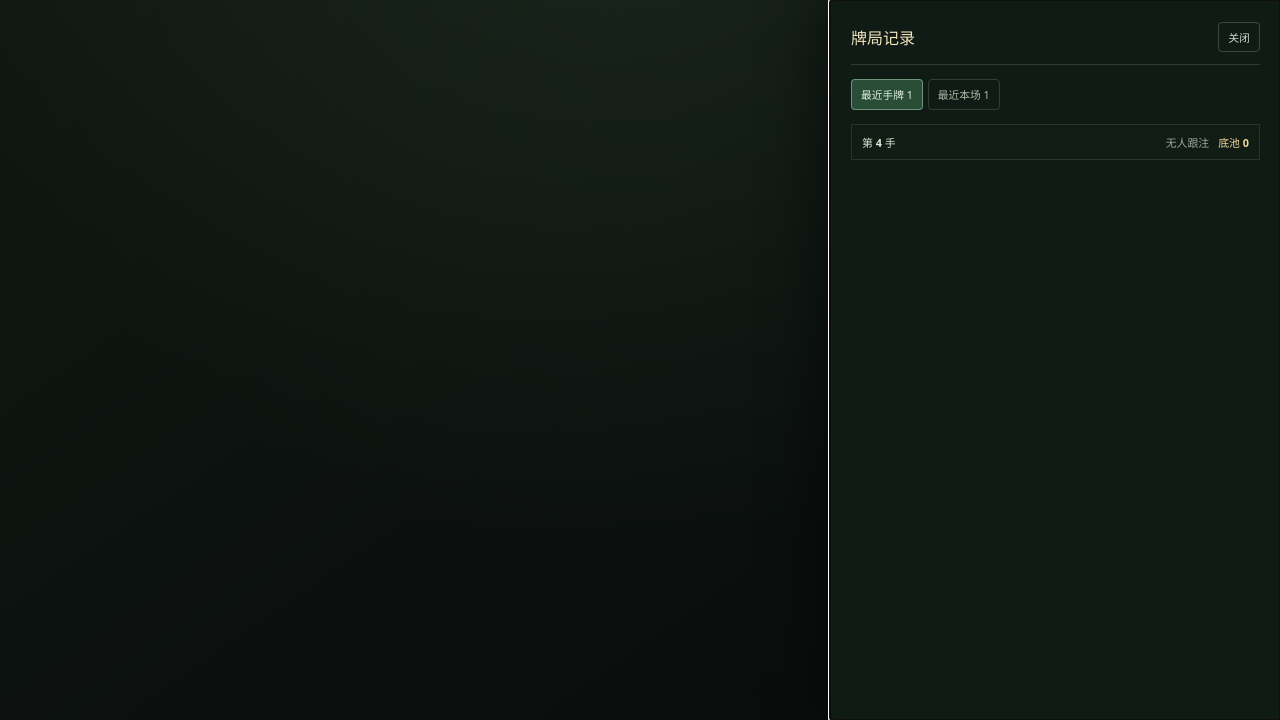
Test: secondary table drawers › renders safe hand and session history without private unrevealed cards
This screenshot has width=1280, height=720.
Click the text "第 4 手" at [879, 142], box [862,135,896,150]
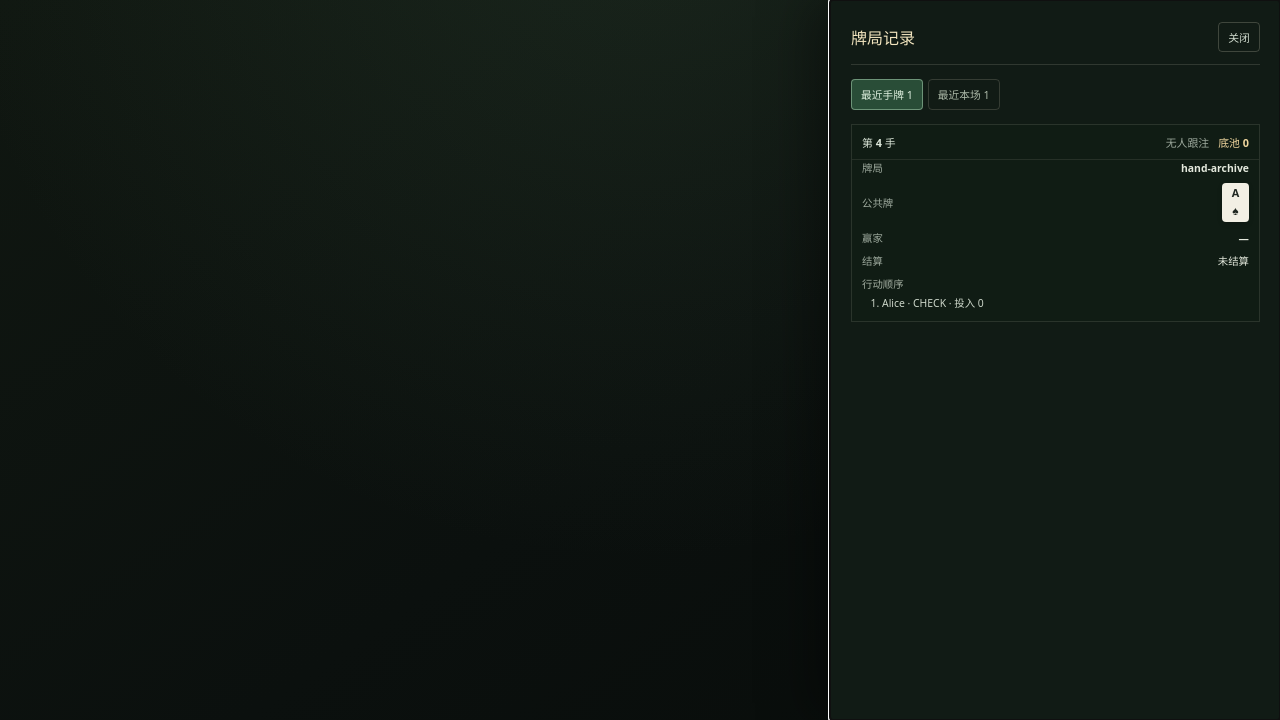
expect the text "hand-archive" is shown: met, box [1181,160,1249,174]
expect the list item "Alice · CHECK · 投入 0" is shown: met, box [882,296,984,310]
Click the tab "最近本场 1" at [964, 94], box [928,79,1000,110]
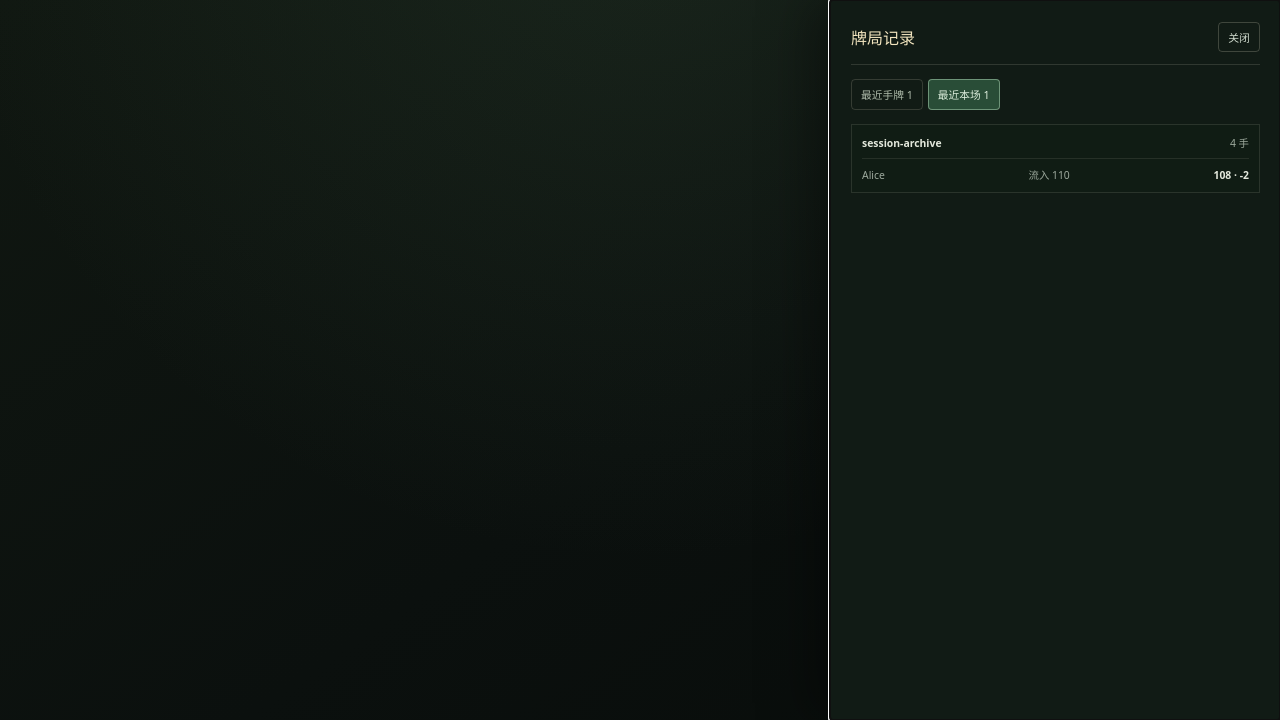
expect the text "session-archive" is shown: met, box [862,136,942,150]
expect the text "流入 110" is shown: met, box [1028,167,1070,182]
